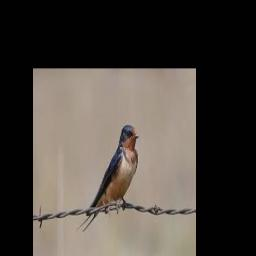Swallow: (76, 125, 139, 231)
